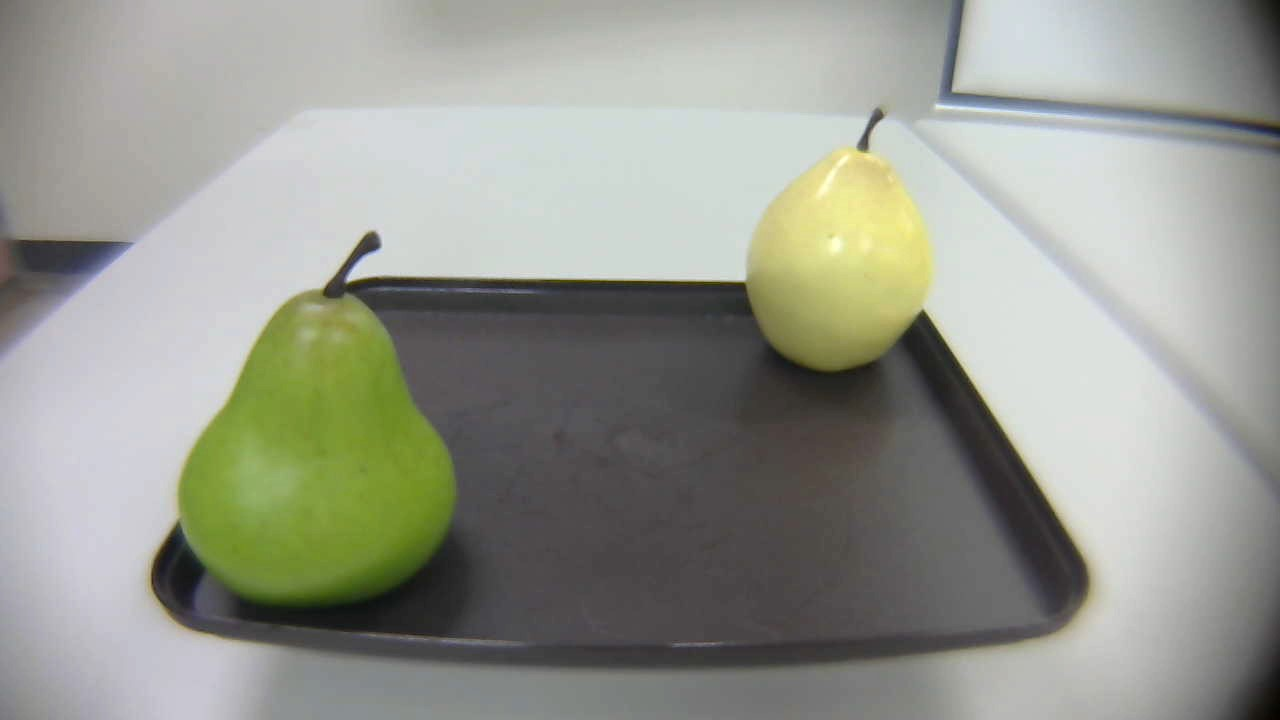green pear: (152, 227, 480, 616)
western pear: (741, 108, 949, 380)
